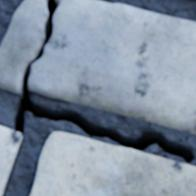brick: (30, 131, 195, 195), (0, 125, 21, 195)
broken_brick: (29, 0, 195, 132), (0, 0, 48, 92)
crack: (2, 0, 195, 195)
